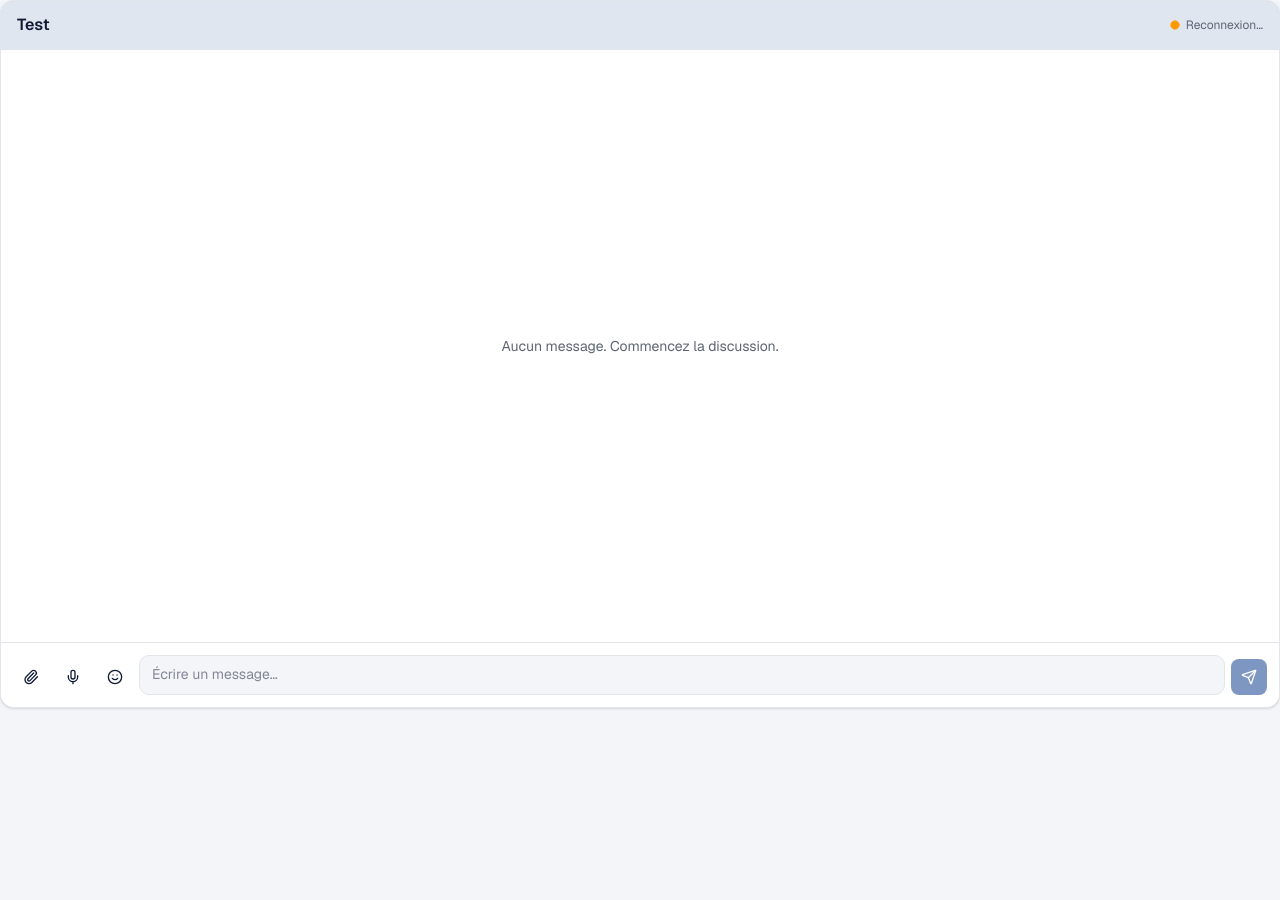
Test case: ChatConversation — écho optimiste et retry hors-ligne (issue #260) › shows a sent message as pending ("Envoi en cours…") while offline
Type "Message hors ligne" into the text box labelled "message" at (682, 675), box [139,655,1225,695]
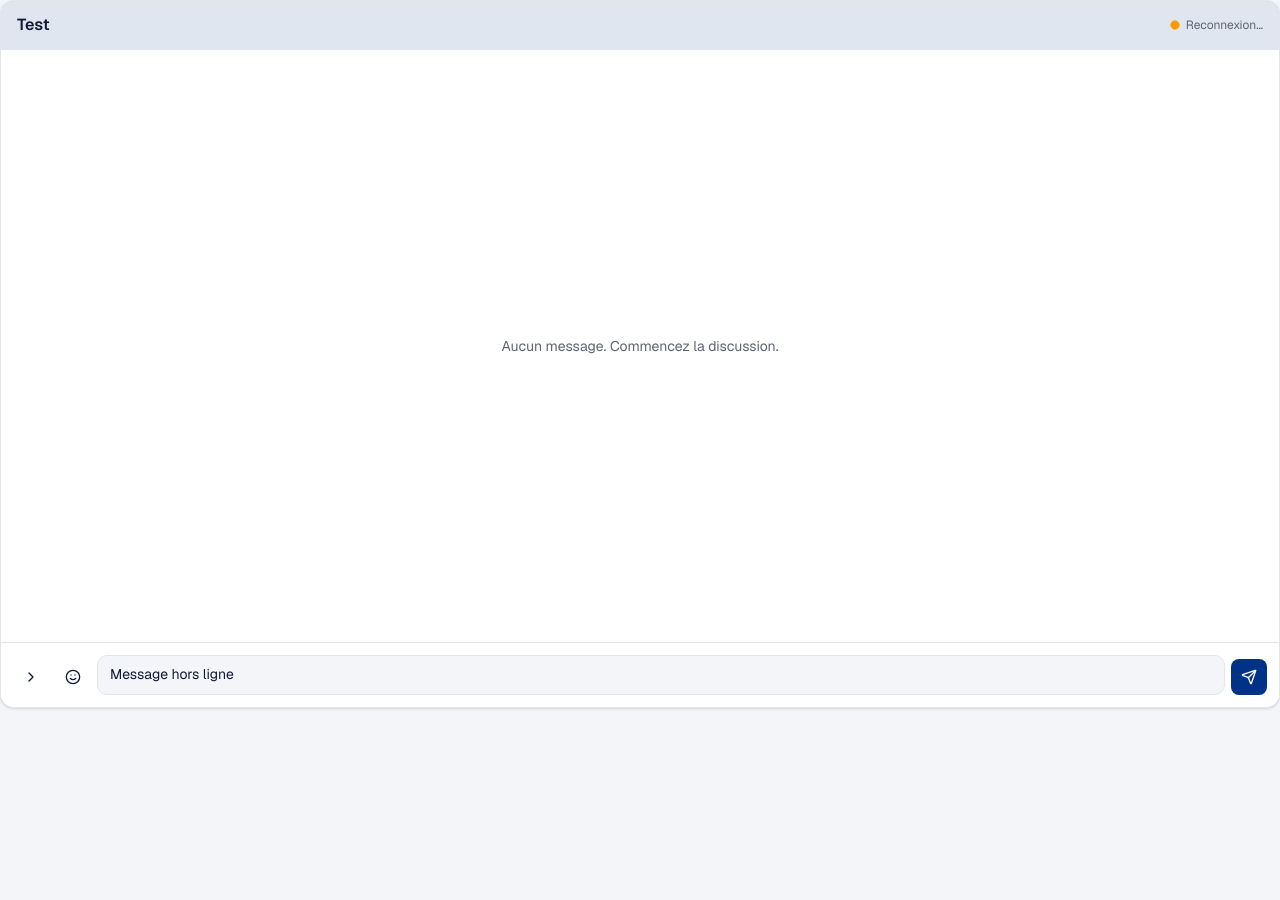
Click the button named "Envoyer" at (1249, 677), box [1231,659,1267,695]
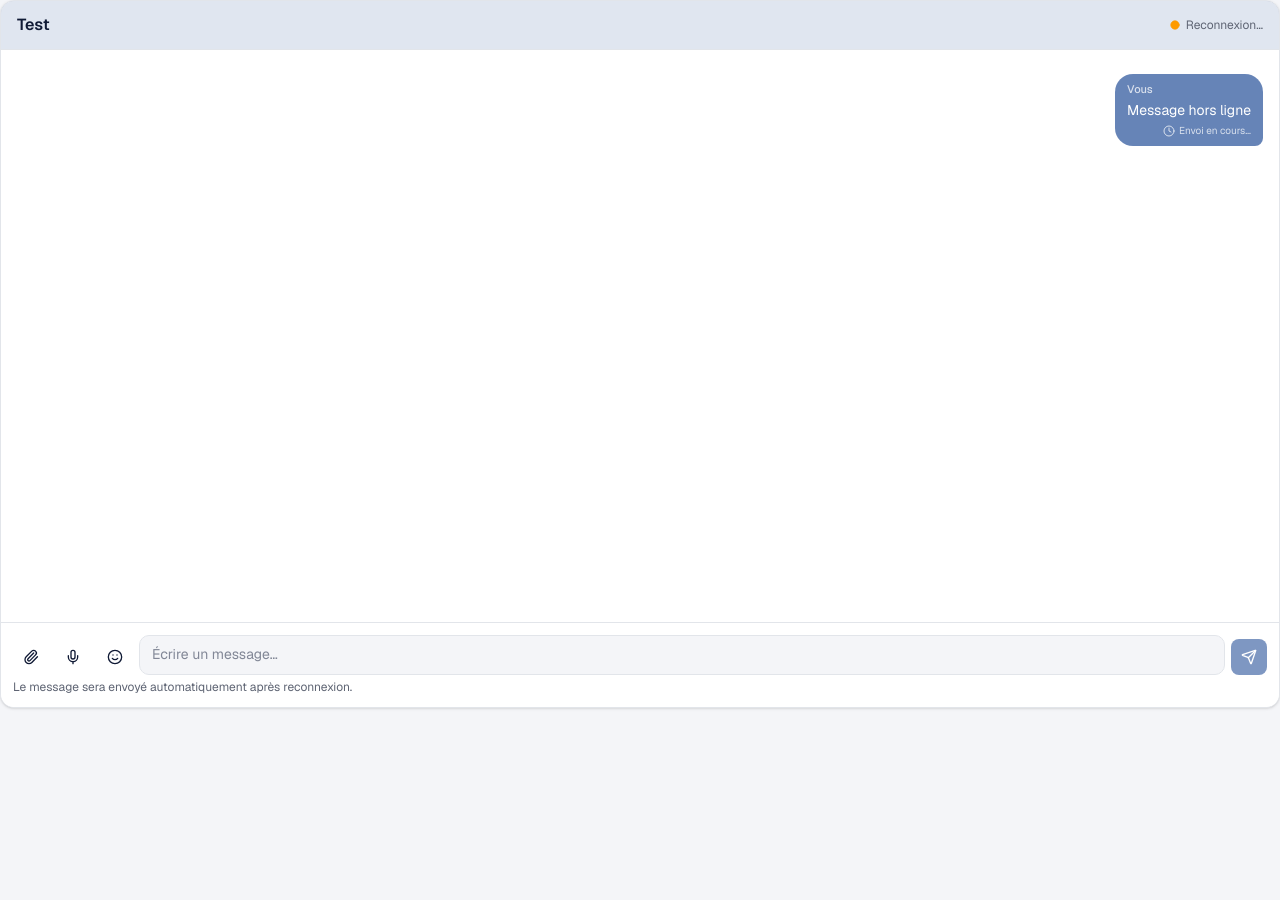
Check: the text "Message hors ligne" is shown, box [1127,100,1251,120]
Check: the text "Envoi en cours…" is shown, box [1163,124,1251,138]
